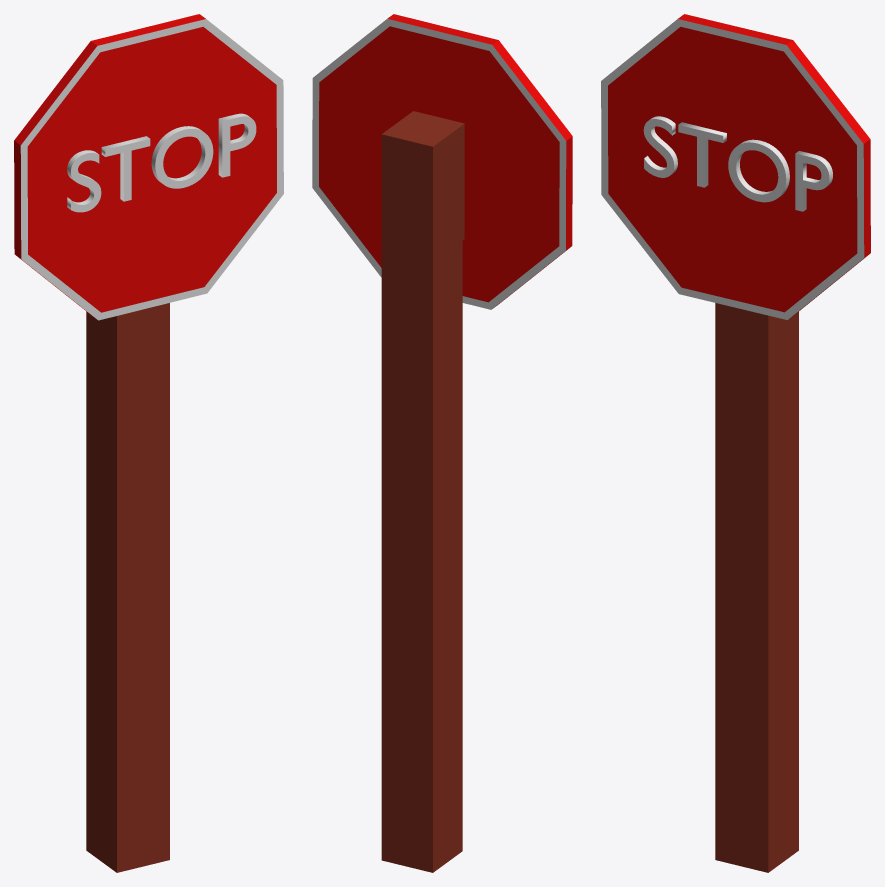
The model's file is stopsign.fbx.
3 renders of one model, left to right at view 1: azimuth 30°, elevation 25°; view 2: azimuth 150°, elevation 25°; view 3: azimuth 330°, elevation 25°, orthographic. The views are drawn at different scales.
Parts seen in each view (by area): view 1: Text; view 2: Text; view 3: Text.
Part boxes in pixels (box(x1,y1,x2,y2)): Text: box(14, 14, 283, 872); Text: box(312, 14, 572, 872); Text: box(601, 14, 870, 872).
Bounding box in the file's own units: 185 × 565 × 52.82.
